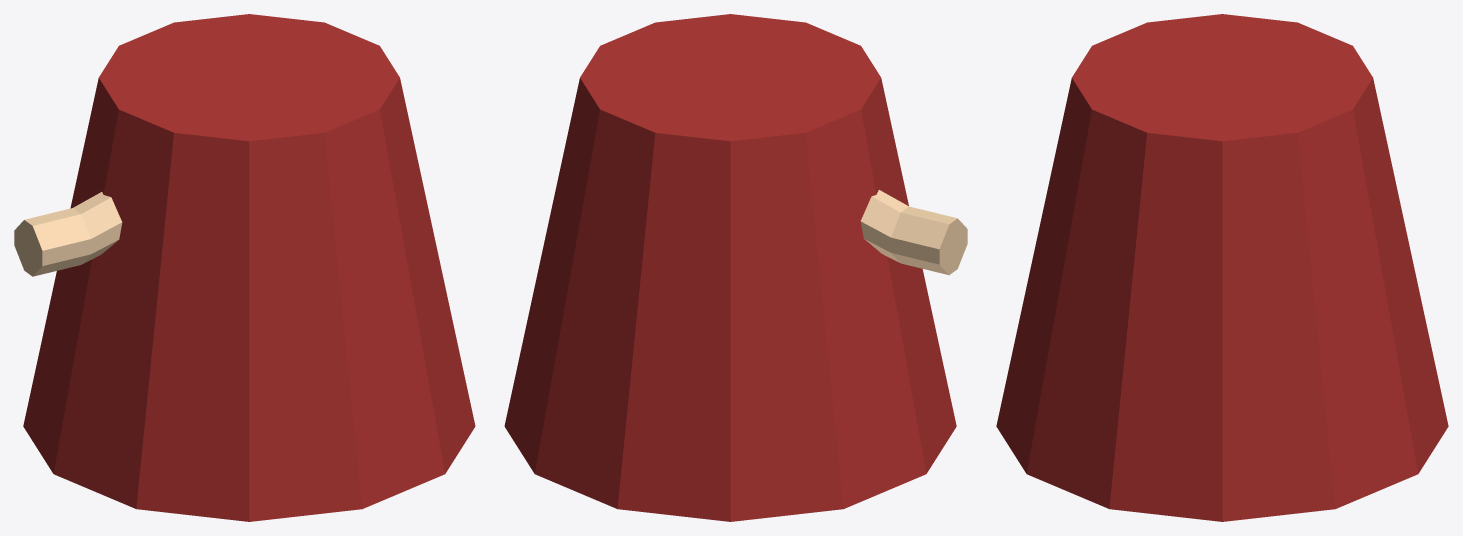
The model's file is Light_Lv2.fbx.
3 views of the same model, side by side, from view 1: azimuth 30°, elevation 25°; view 2: azimuth 150°, elevation 25°; view 3: azimuth 270°, elevation 25° (orthographic).
Visible parts, largest first — view 1: Room_Lv2_Light; view 2: Room_Lv2_Light; view 3: Room_Lv2_Light.
Boxes of the visible parts, x1,y1,x2,y2 form: Room_Lv2_Light: [14, 14, 475, 521]; Room_Lv2_Light: [504, 14, 967, 521]; Room_Lv2_Light: [996, 14, 1448, 521].
Size of the model in its own units: 2.13 by 2.04 by 2.
